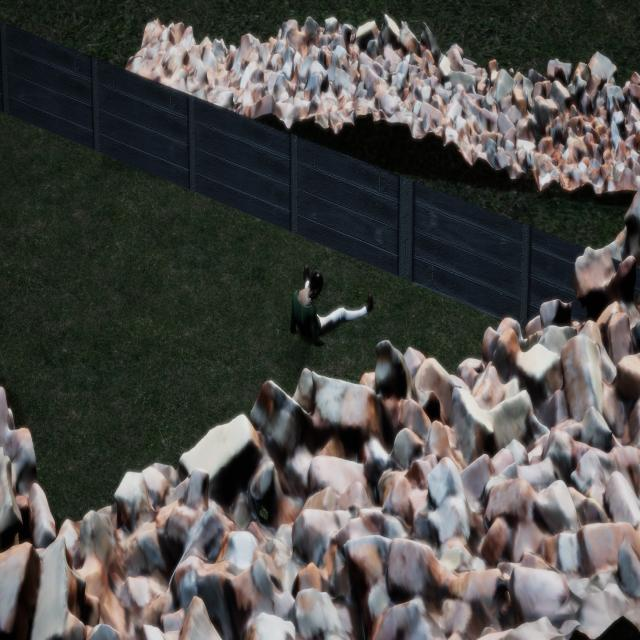Human: (276, 254, 376, 346)
